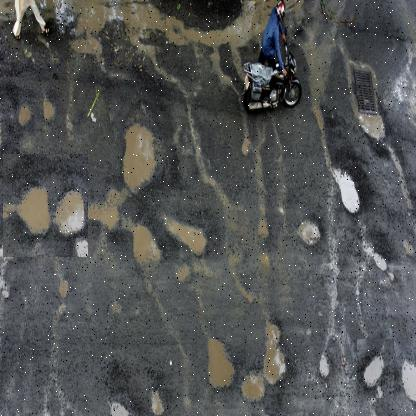pothole_water: (116, 99, 163, 203), (329, 142, 359, 223), (357, 340, 395, 400)
pothole_water_m: (3, 154, 89, 258)
